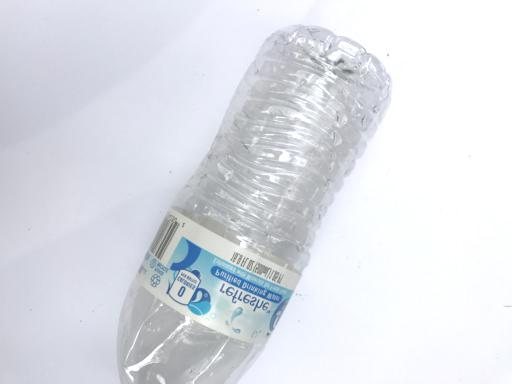bottle: (110, 22, 398, 384)
